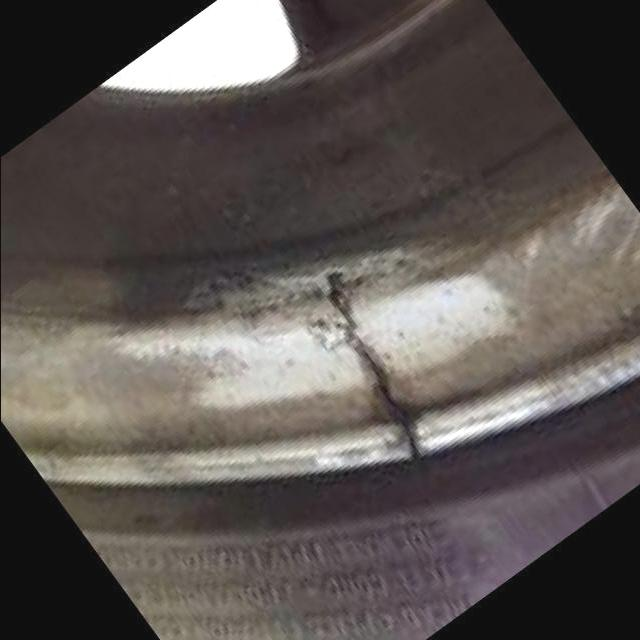defect: (300, 268, 433, 470)
